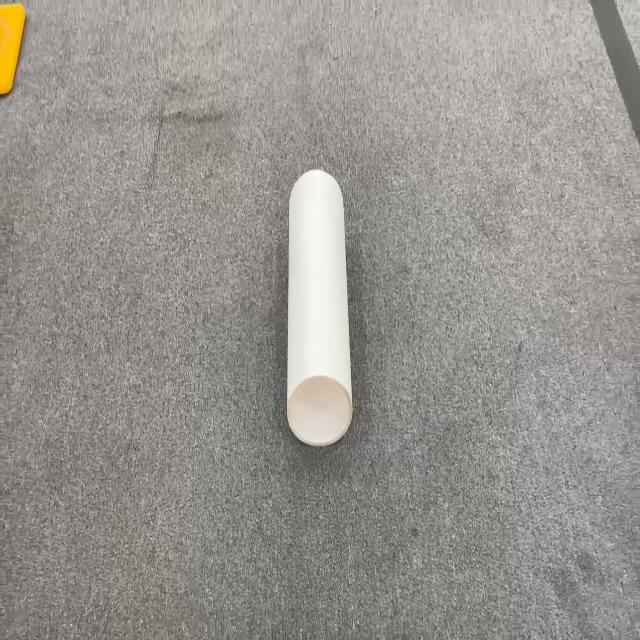coral: (286, 167, 354, 446)
